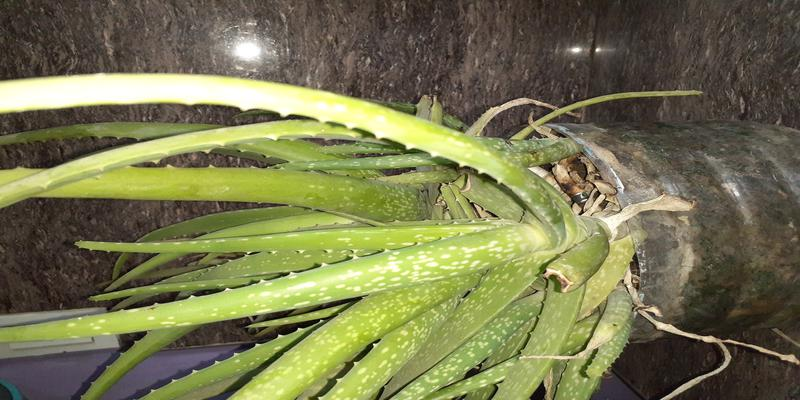Aloevera: (81, 89, 640, 391)
